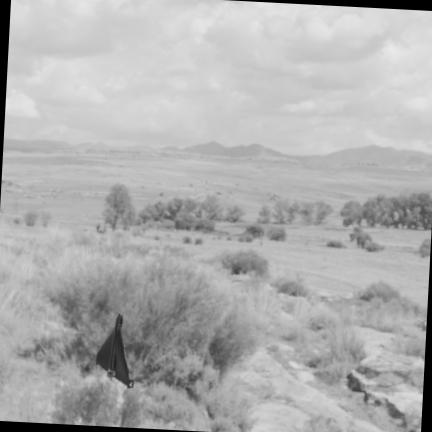Shahed: (97, 313, 134, 387)
